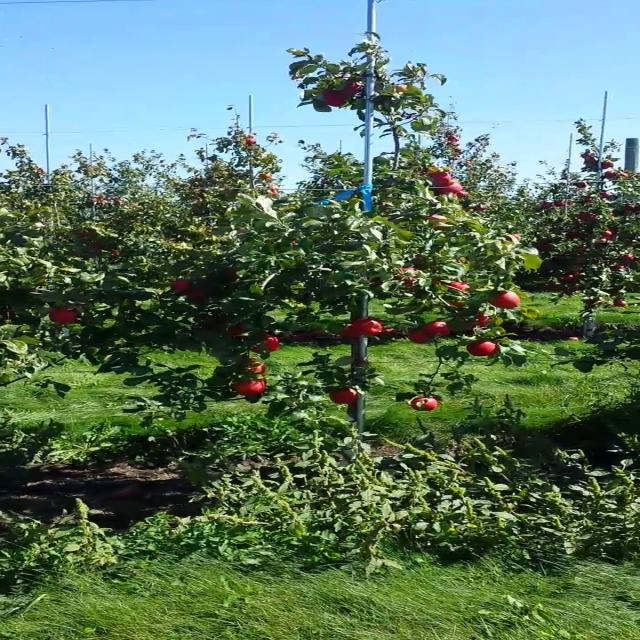apple: (250, 334, 279, 354), (348, 318, 382, 335), (48, 307, 79, 325), (422, 320, 451, 338), (466, 340, 497, 356), (235, 379, 265, 395), (328, 388, 358, 404), (492, 291, 519, 308), (410, 396, 438, 412), (429, 171, 455, 187), (338, 323, 362, 338), (406, 329, 430, 344), (338, 82, 362, 96), (324, 92, 348, 106), (393, 268, 417, 282), (436, 182, 463, 194), (222, 322, 244, 336), (169, 279, 193, 291), (250, 359, 266, 373), (188, 288, 206, 300), (448, 281, 469, 291), (474, 313, 489, 325), (244, 137, 259, 147), (427, 215, 446, 222), (78, 229, 95, 236), (259, 171, 273, 179), (622, 254, 636, 262), (506, 234, 520, 241), (396, 84, 408, 92), (573, 269, 584, 277), (563, 273, 575, 280), (604, 171, 616, 178), (618, 172, 630, 179), (584, 213, 594, 221), (90, 241, 100, 249), (614, 300, 626, 306), (474, 205, 486, 211), (598, 191, 610, 197), (602, 162, 614, 168), (268, 184, 278, 191), (601, 230, 611, 237), (577, 246, 588, 252), (448, 136, 459, 142), (267, 192, 280, 197), (577, 182, 587, 188), (588, 158, 598, 164), (110, 249, 120, 255), (626, 205, 637, 210), (542, 202, 551, 208), (585, 197, 594, 203), (615, 265, 625, 270), (35, 168, 45, 173), (464, 158, 472, 164), (556, 200, 564, 206), (584, 152, 592, 158), (596, 238, 607, 242), (114, 200, 123, 204), (454, 148, 461, 151), (101, 200, 108, 203), (465, 164, 471, 167)
